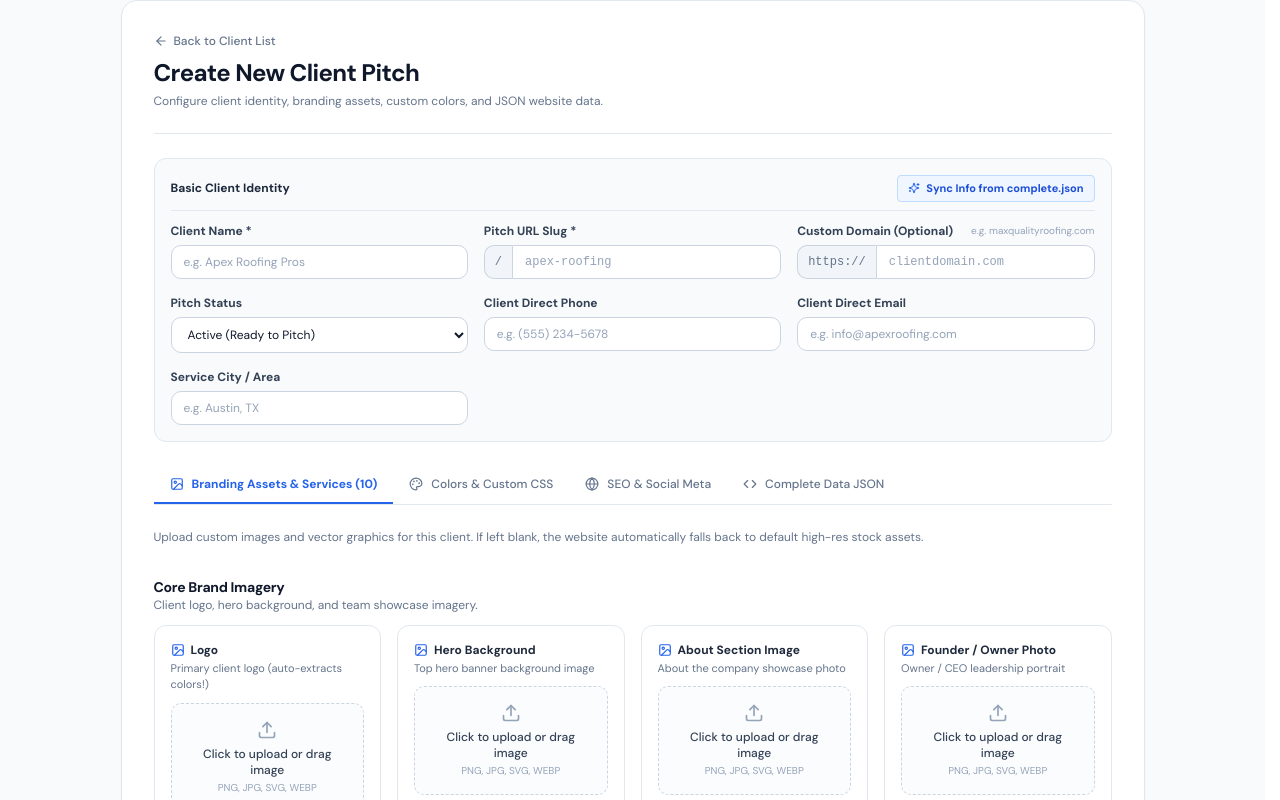
ClientEditor Component › switches to Complete Data JSON tab and displays formatted JSON
The width and height of the screenshot is (1280, 800).
Click the button "Complete Data JSON": click(814, 484) x1=727 y1=466 x2=900 y2=504
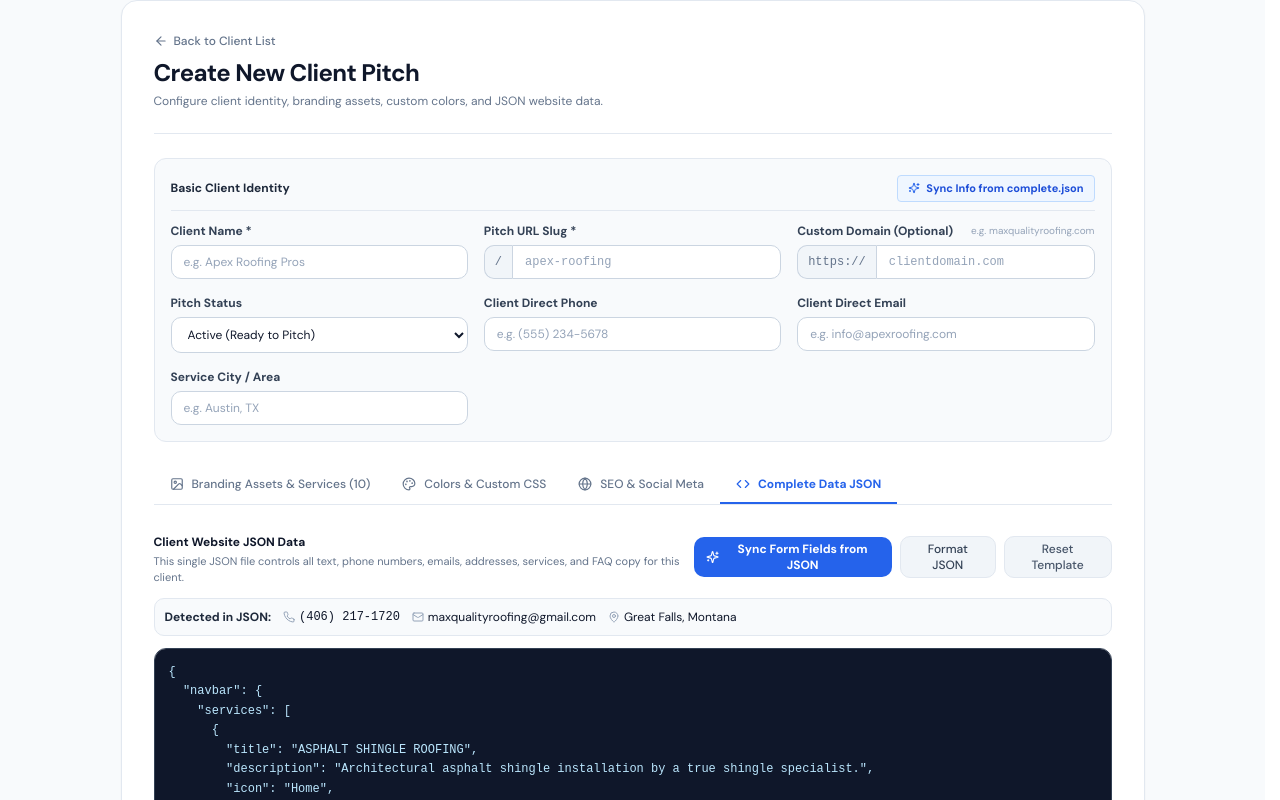
Expected: the text "Client Website JSON Data" is shown, x1=154 y1=534 x2=305 y2=550
Expected: the button "Format JSON" is shown, x1=900 y1=536 x2=996 y2=578
